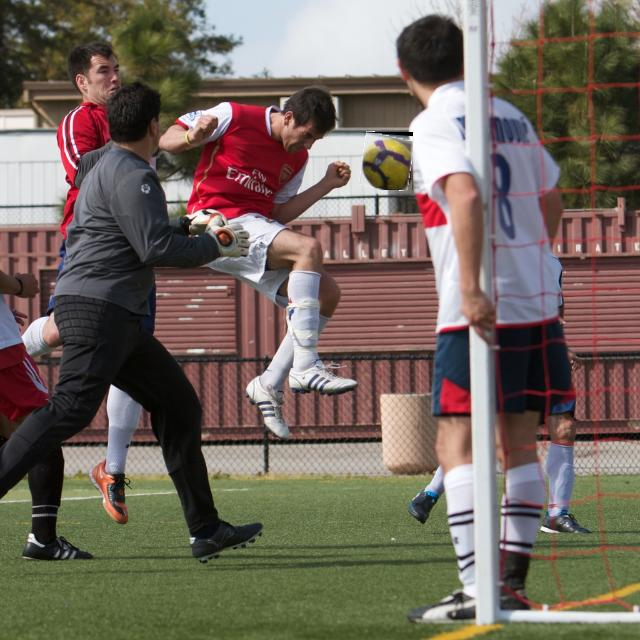Football: (361, 132, 413, 190)
